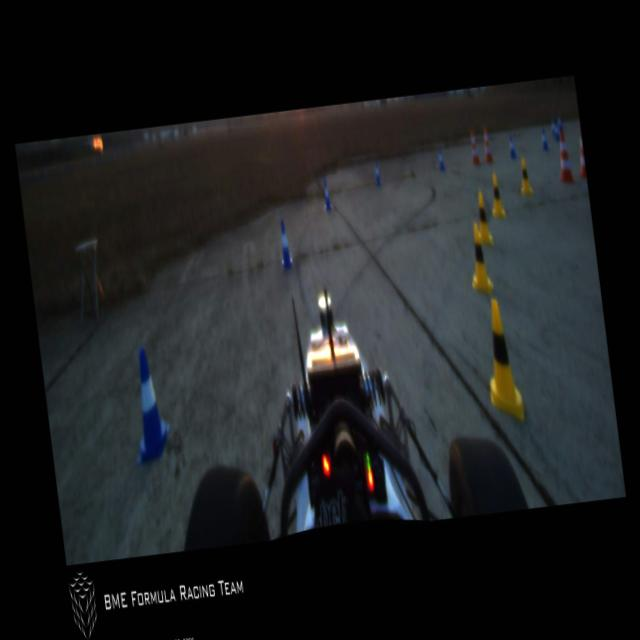blue_cone: (122, 345, 174, 466), (276, 218, 293, 269), (321, 178, 332, 211), (372, 160, 382, 186), (507, 134, 516, 158), (539, 127, 548, 151), (438, 148, 446, 170), (550, 117, 557, 137), (556, 114, 562, 130)
large_orange_cone: (555, 128, 574, 184), (574, 126, 586, 179), (481, 125, 493, 164), (468, 128, 479, 165)
yellow_cone: (479, 296, 524, 422), (465, 222, 493, 294), (474, 192, 492, 244), (487, 171, 506, 218), (516, 157, 533, 195)
